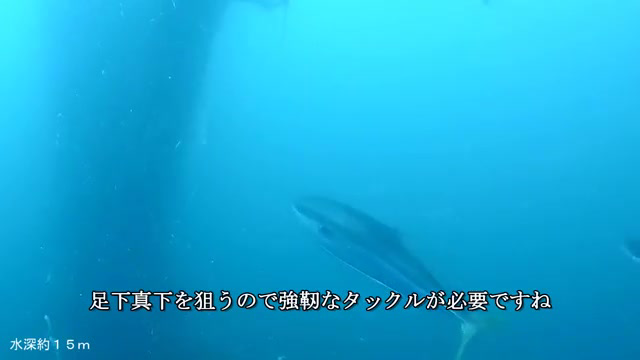smallfish: (290, 192, 448, 292)
